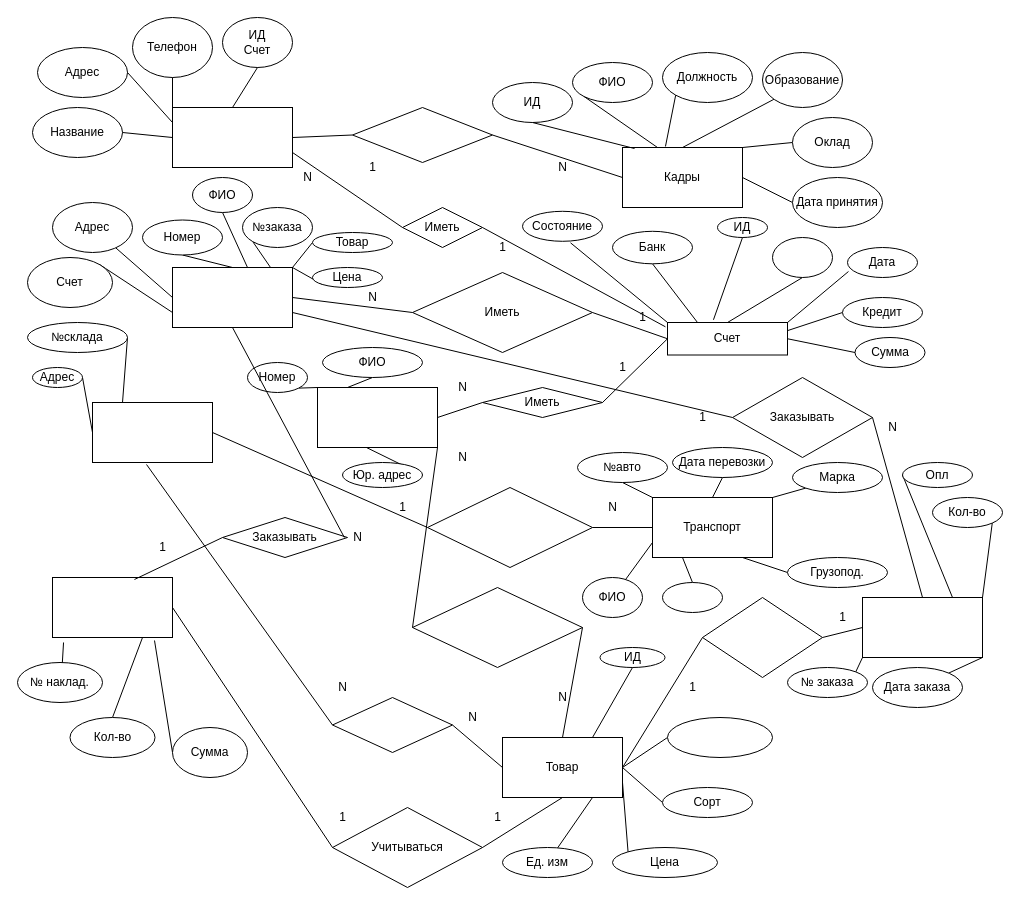
The diagram is 1021 pixels wide and 905 high, and some of its shapes have lost their labels. Each missing label, with the centre of its shape:
Включаться: pixel 762 637
Год: pixel 692 597
Заказ: pixel 922 627
Клиент: pixel 232 297
Наименов.: pixel 719 737
Накладная: pixel 112 607
Поставляет: pixel 497 627
Поставщик: pixel 377 417
Принадлежать: pixel 509 527
Работать: pixel 422 134
Склад: pixel 152 432
Фирма: pixel 232 137
Храниться: pixel 392 724
№счета: pixel 802 257
